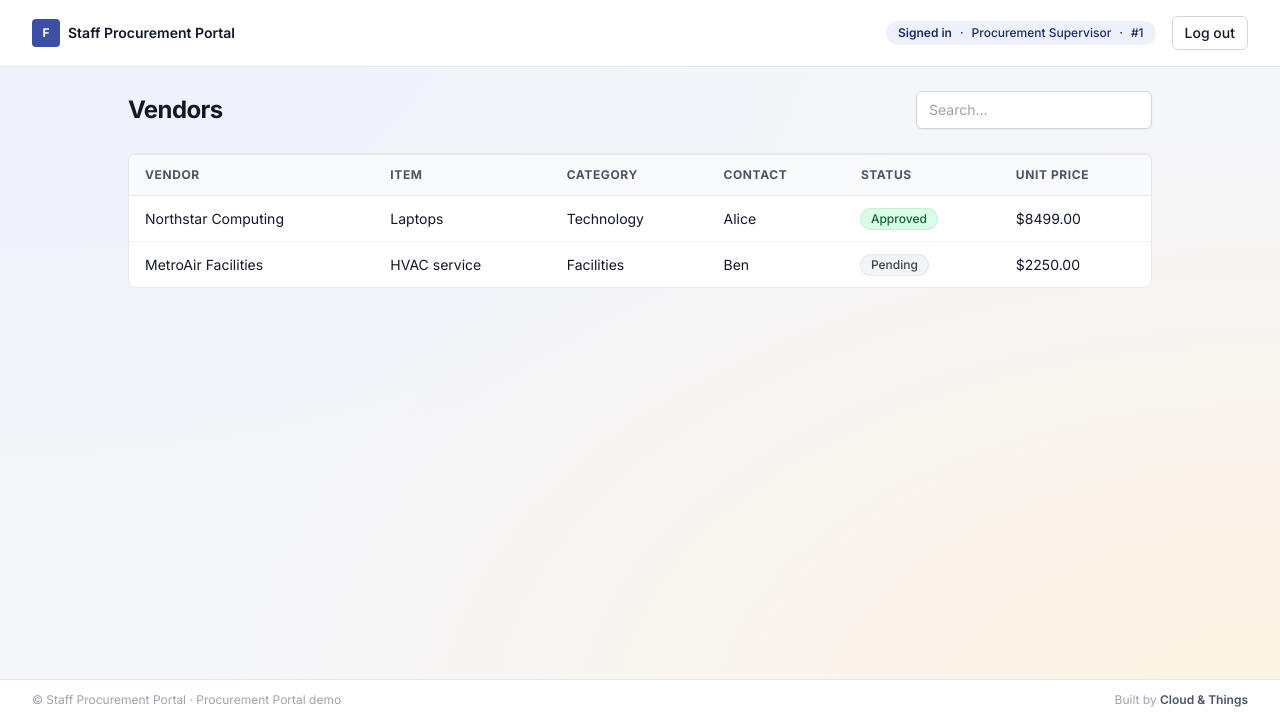
VendorList › filters by vendor name (case-insensitive)
Expected: the text "Northstar Computing" is shown, [129,196,374,242]
Type "metro" into the search field at (1034, 110), box [916,91,1152,129]
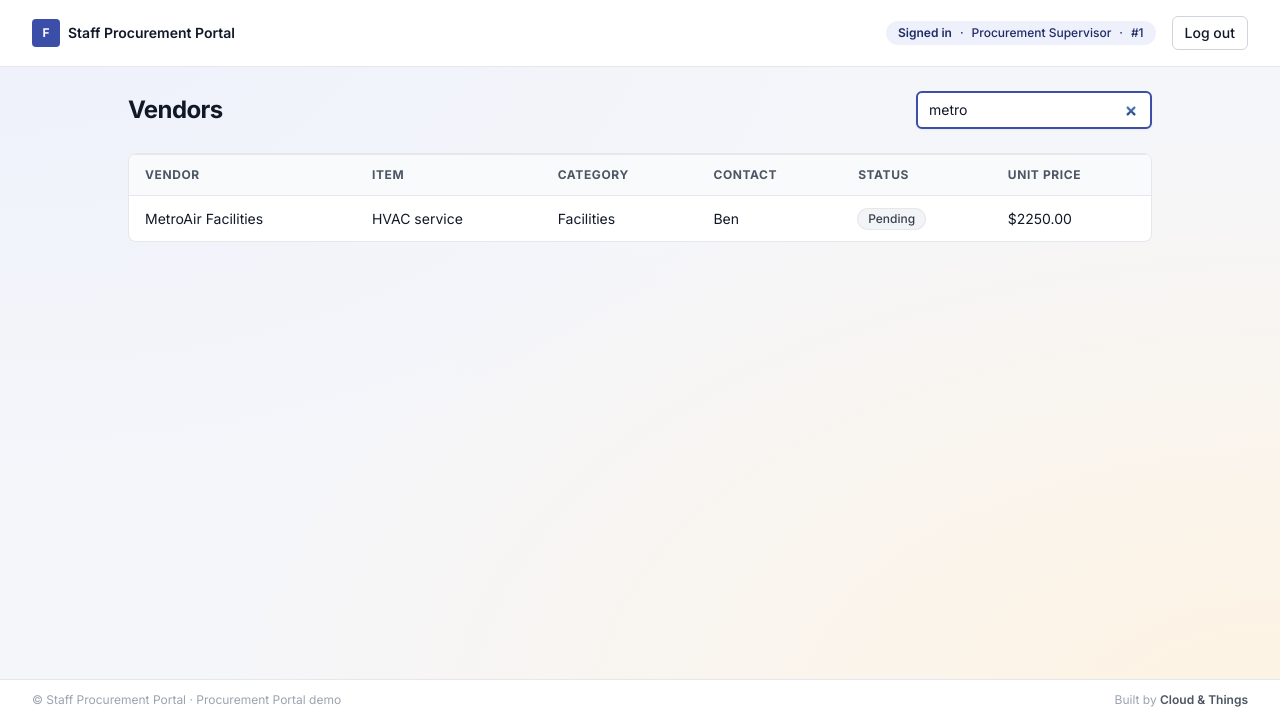
Expected: the text "MetroAir Facilities" is shown, [129,196,356,241]
Expected: the text "Northstar Computing" is gone
